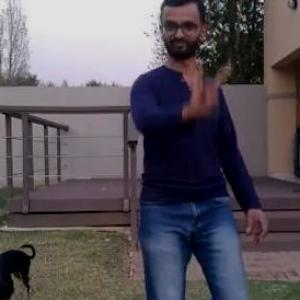takeoff-hand: (178, 55, 226, 117)
